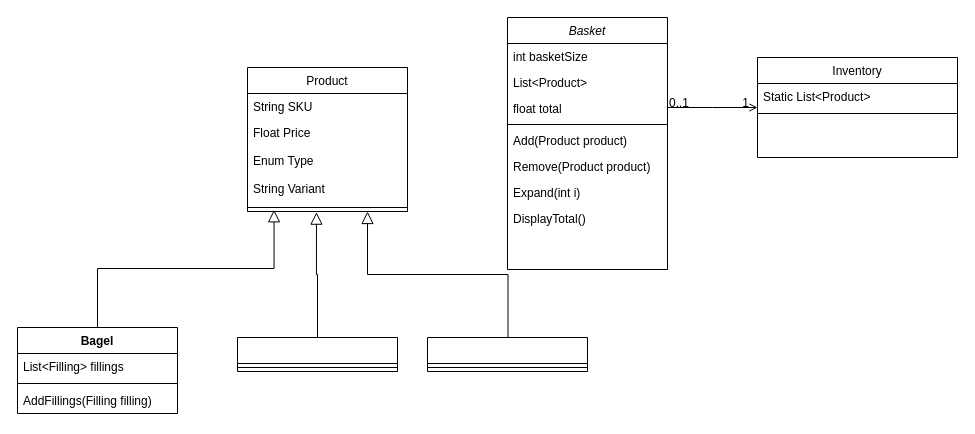
Image size: 975x434. Some labels were removed from this diagram. Each missing label, with the centre of its shape:
"Coffee" belongs at (317,354).
"Filling" belongs at (507,354).
